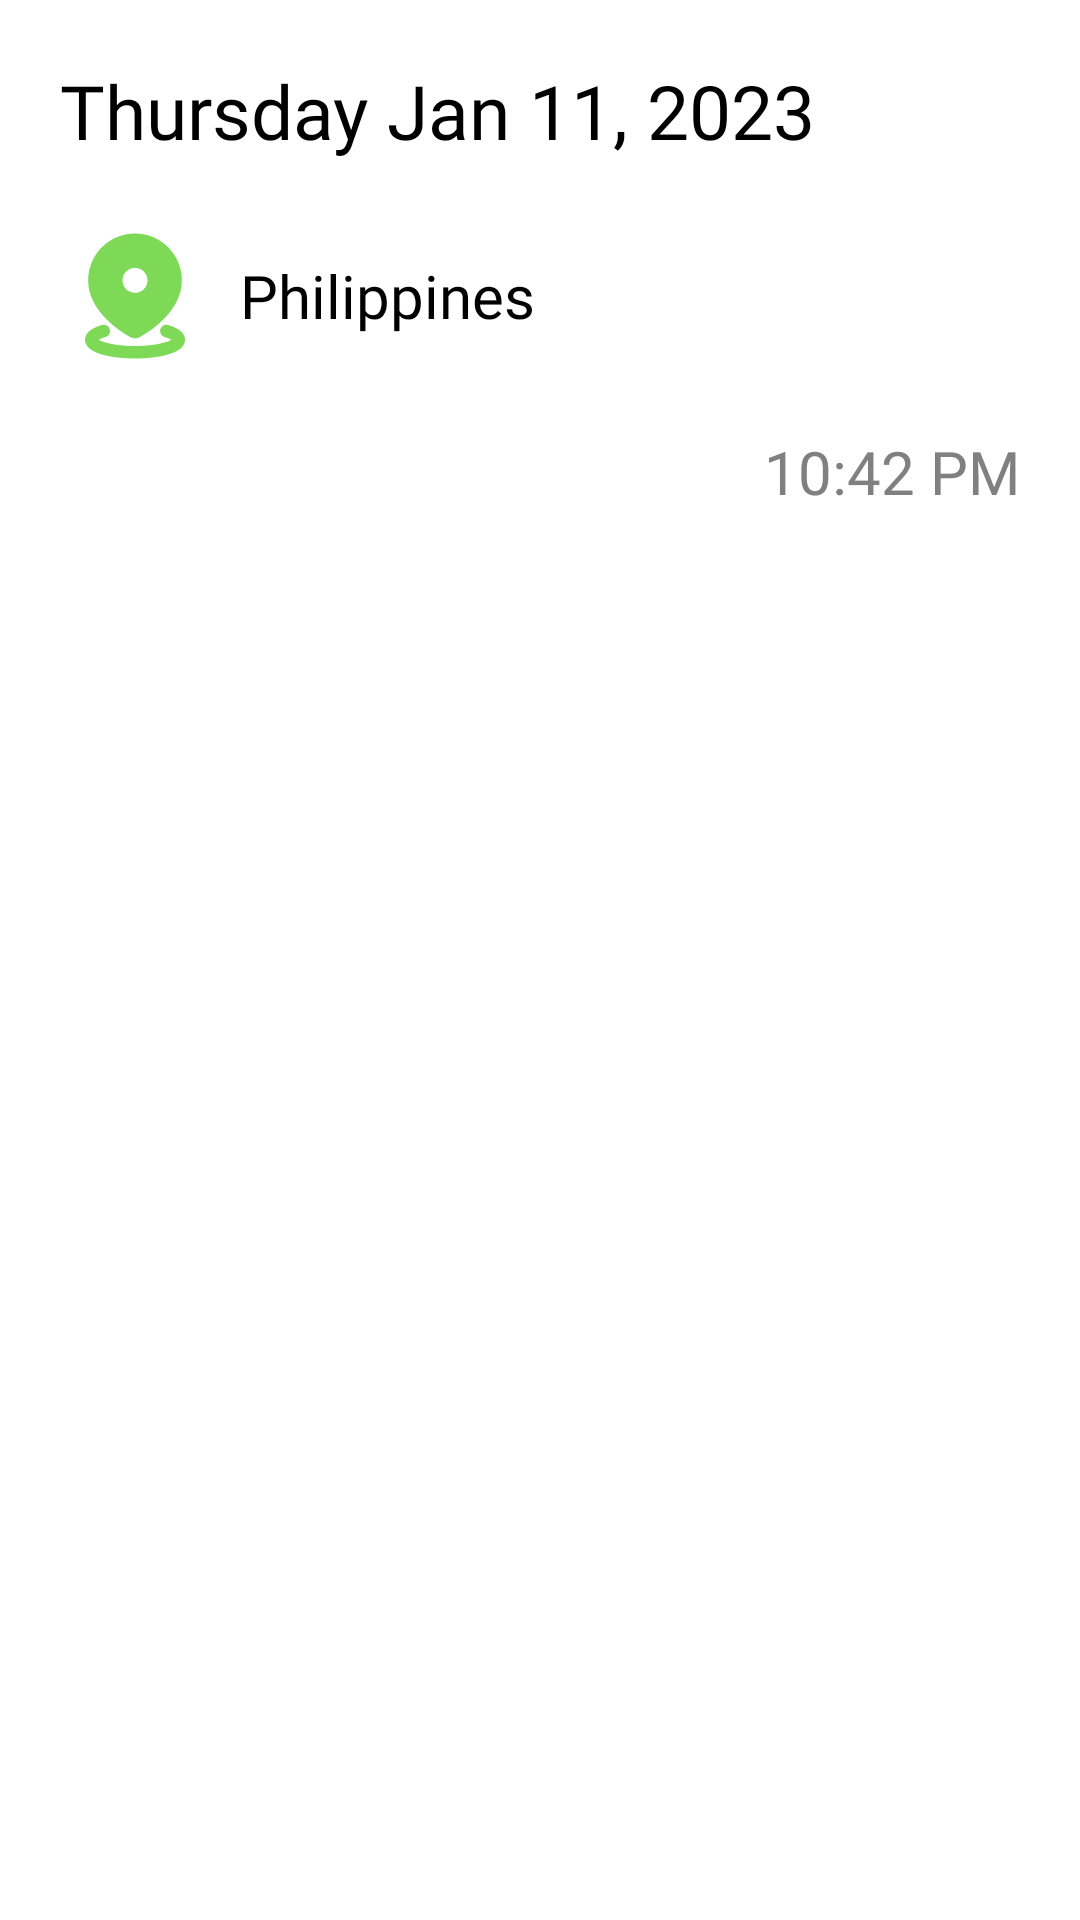

Screen size 1080 × 1920. Icon name, then its box in pixels as (x1, y1, x2, y2):
location: (85, 233, 185, 359)
